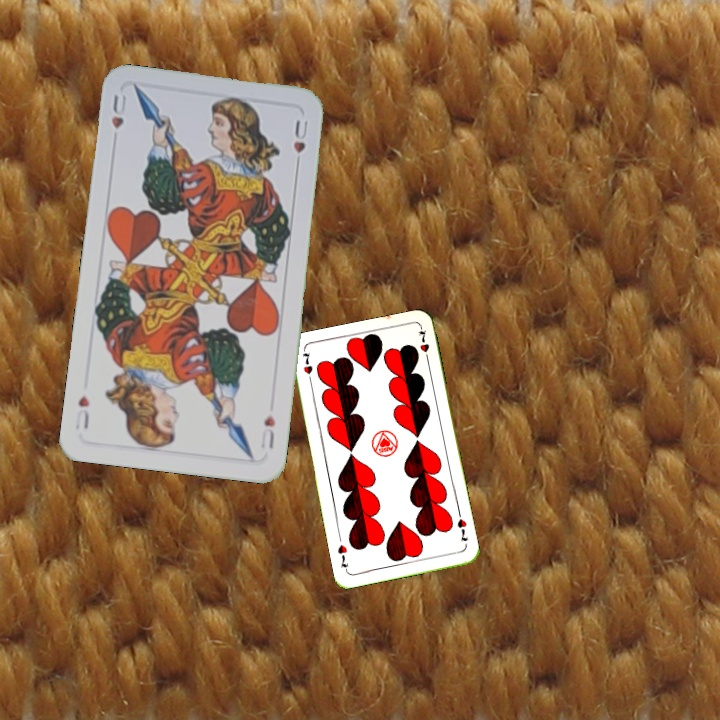H7: (299, 348, 315, 387), (453, 515, 471, 544)
HU: (256, 411, 278, 452), (107, 91, 129, 131)
